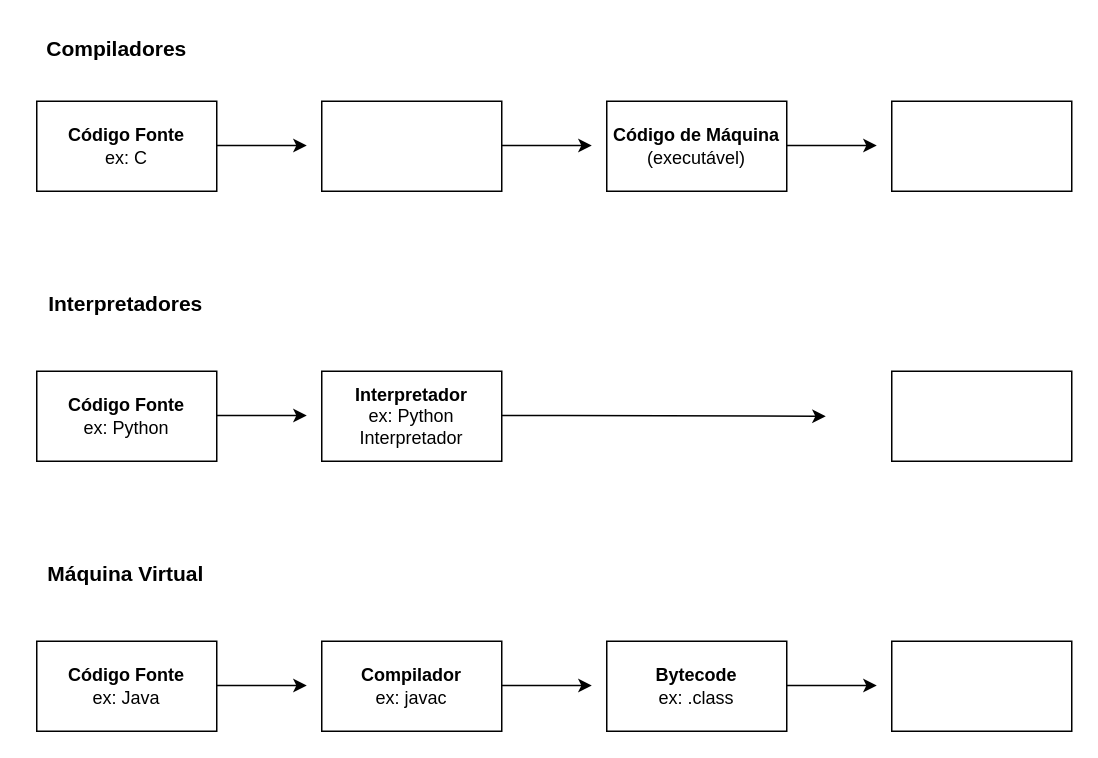
The diagram is 1098 pixels wide and 758 high, and some of its shapes have lost their labels. Here are the shapes that lost their labels. From the top down, the centre of each, then its label:
the point at 411,145: Compilador ex: GCC
the point at 981,145: Execução na Máquina
the point at 981,415: Execução no Interpretador
the point at 981,685: Máquina Virtual ex: JVM
